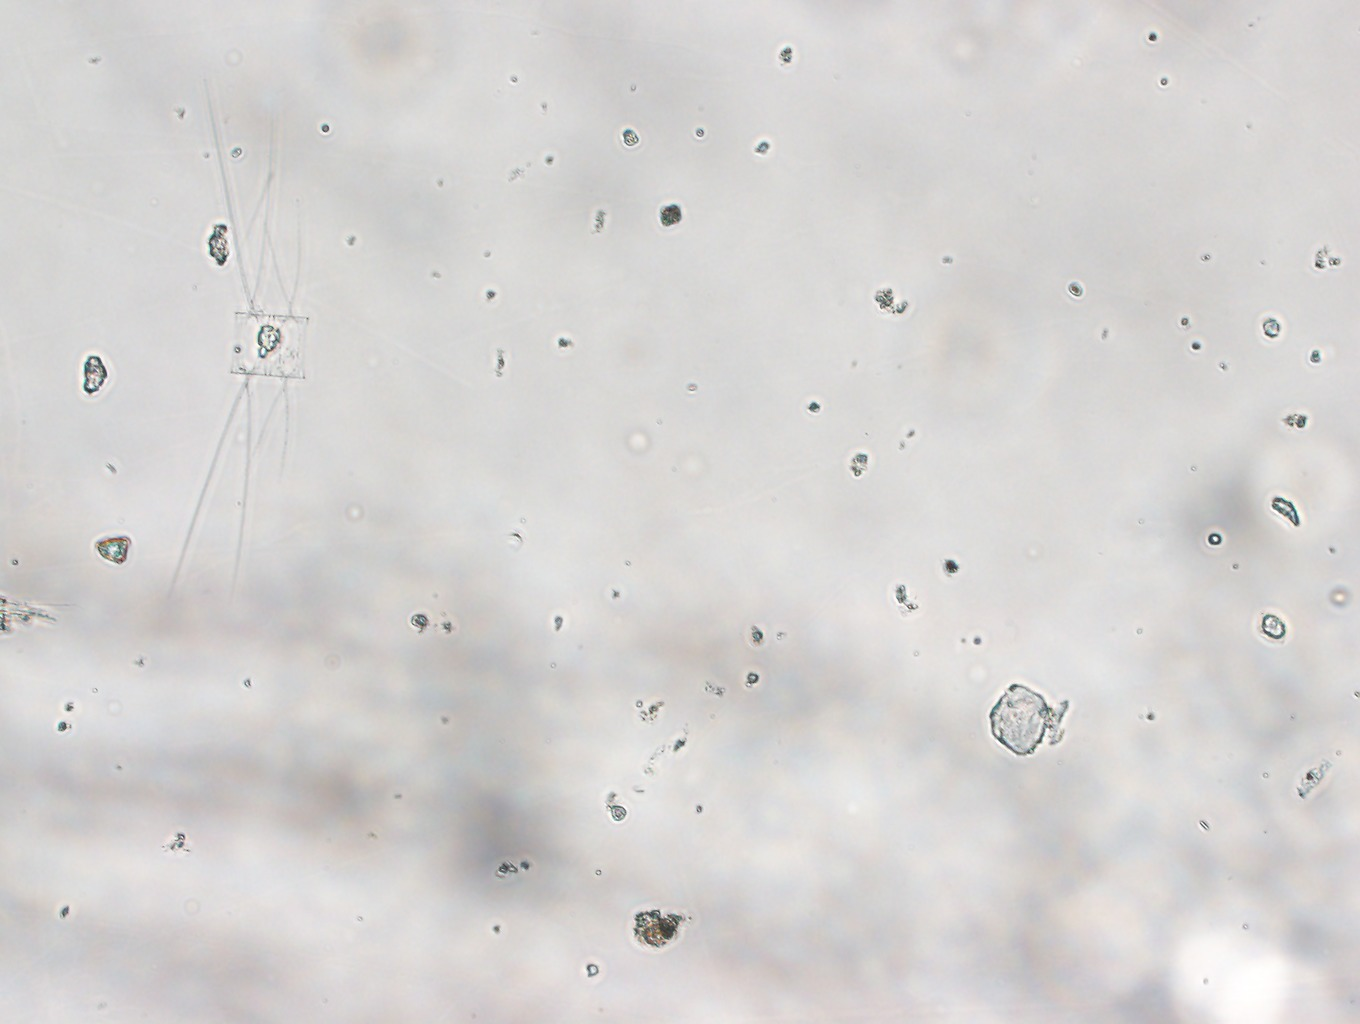chaetoceros: (156, 63, 326, 597)
